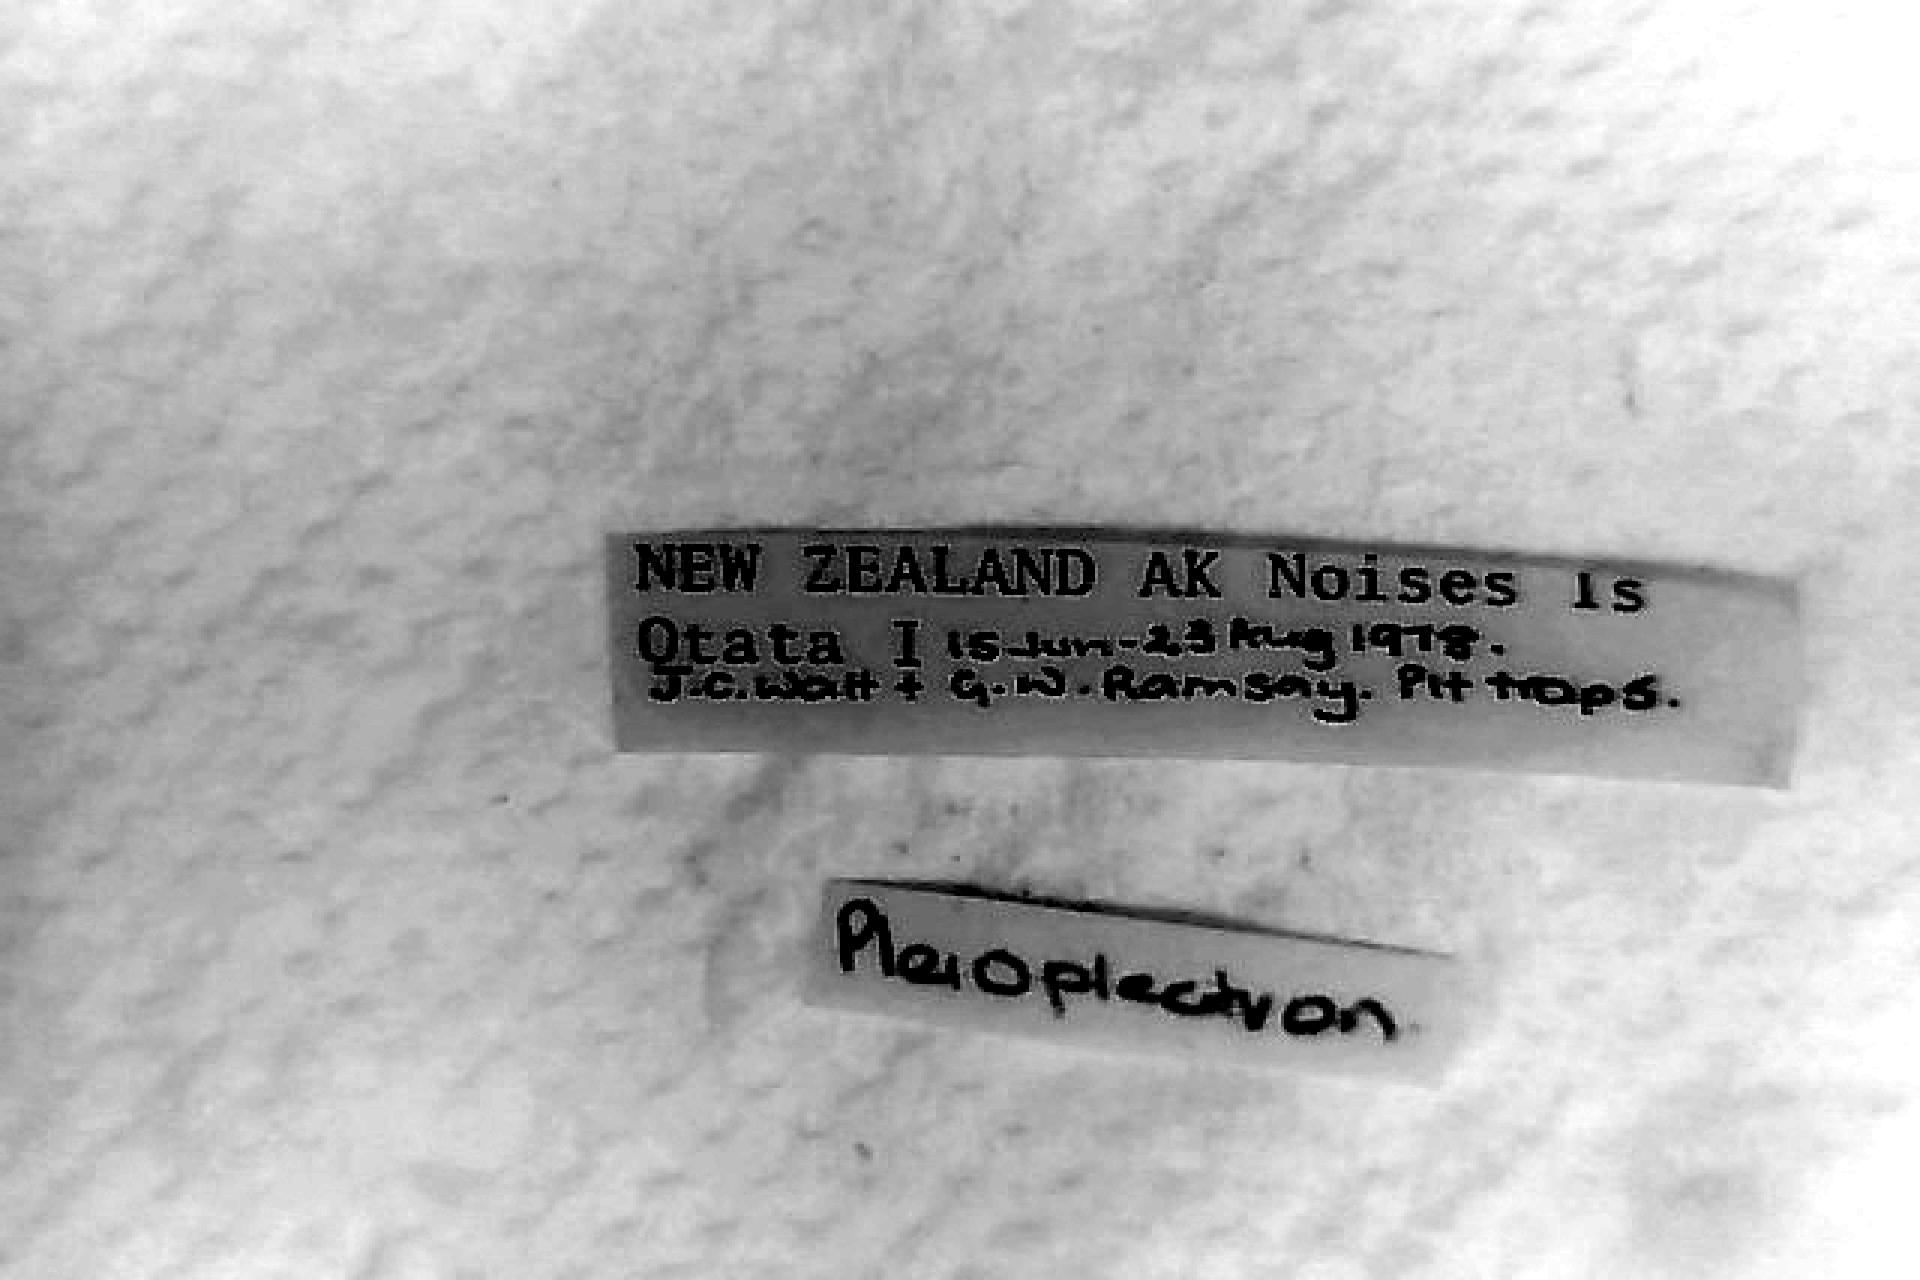hand_label: (811, 880, 1466, 1081)
mixed_label: (611, 530, 1804, 781)
